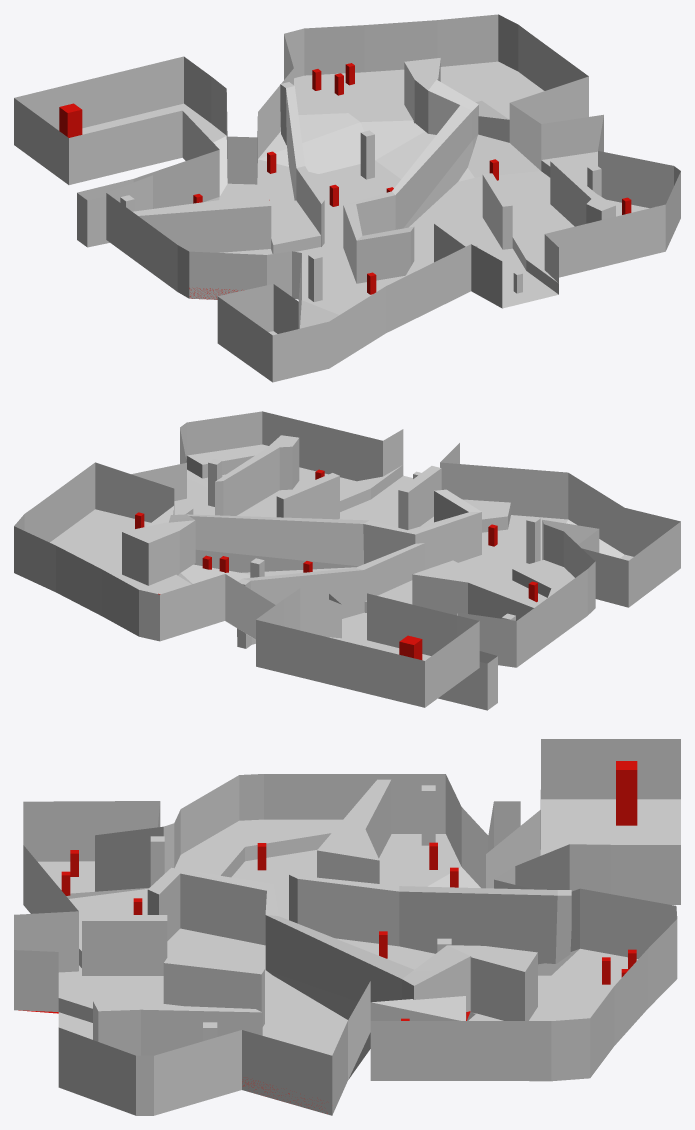
Rendered from MireiaDengra_GreyBox_Nivell1_Bushido 2.fbx.
3 views of the same model, one above another, from view 1: azimuth 30°, elevation 25°; view 2: azimuth 150°, elevation 25°; view 3: azimuth 270°, elevation 25° (orthographic). The views are drawn at different scales.
Parts seen in each view (by area): view 1: Cube, Cube.002, Cube.001; view 2: Cube, Cube.002, Cube.001; view 3: Cube, Cube.002, Cube.001.
Boxes of the visible parts, x1,y1,x2,y2 form: Cube: [14, 14, 680, 382]; Cube.002: [82, 61, 649, 335]; Cube.001: [271, 100, 597, 294]; Cube: [14, 411, 680, 710]; Cube.002: [50, 467, 633, 660]; Cube.001: [146, 444, 574, 612]; Cube: [14, 739, 680, 1115]; Cube.002: [18, 799, 680, 1113]; Cube.001: [58, 819, 465, 1022].
Bounding box in the file's own units: 9225 × 1870 × 9208.
